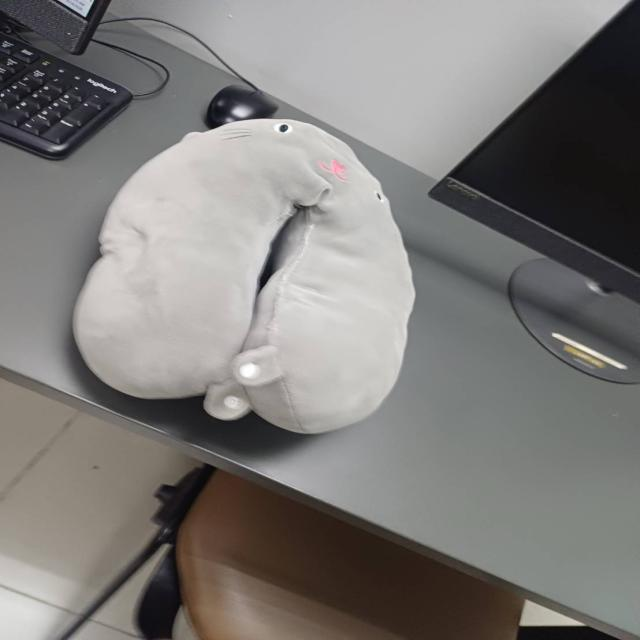pillow: (72, 114, 415, 439)
